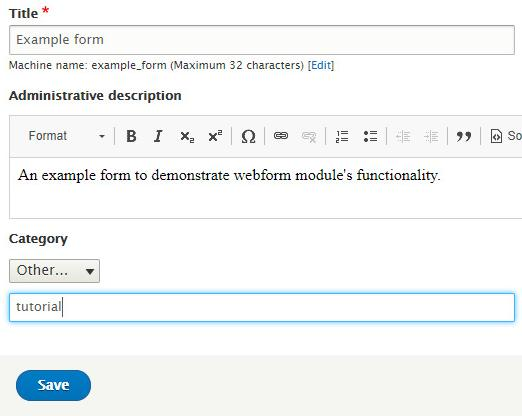button: (16, 369, 91, 403)
field: (8, 23, 516, 57), (7, 292, 517, 325), (7, 258, 102, 285)
field_with_label: (6, 6, 519, 59)
